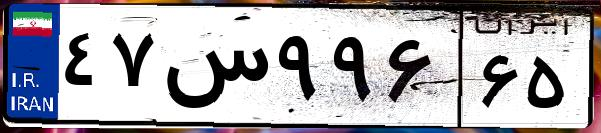4: (57, 26, 110, 100)
5: (525, 38, 570, 115)
6: (385, 28, 445, 110), (475, 38, 525, 113)
7: (110, 28, 158, 98)
9: (270, 28, 330, 110), (330, 28, 385, 110)
س: (158, 20, 270, 120)
